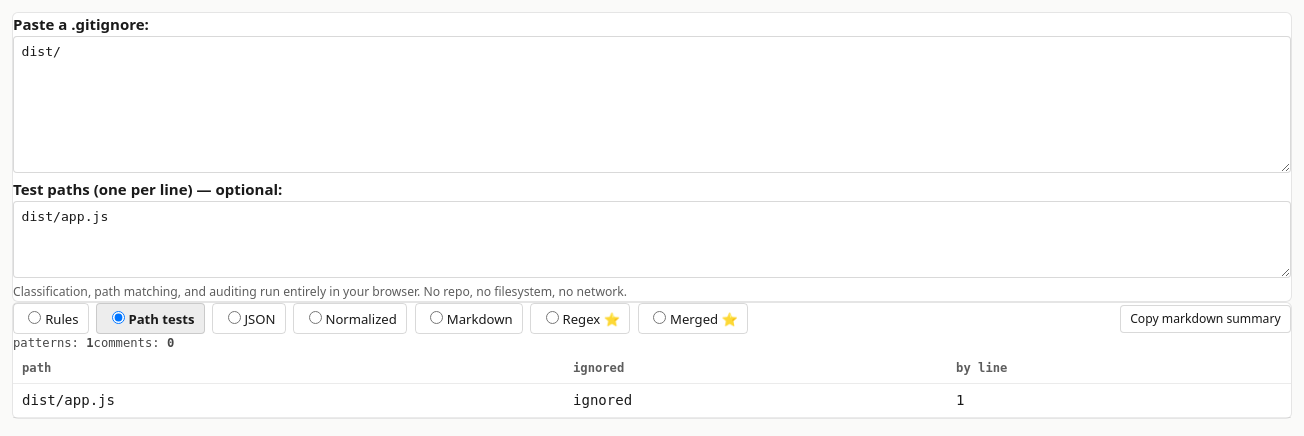
it: GitignoreApp › updates verdicts when the paths field changes
Expected: the cell with test id "gitignore-ignored-0" reads "ignored", [573, 392, 632, 408]
Replace the text in the text box with test id "gitignore-paths" with "src/app.js" at (652, 239), box [13, 200, 1291, 278]
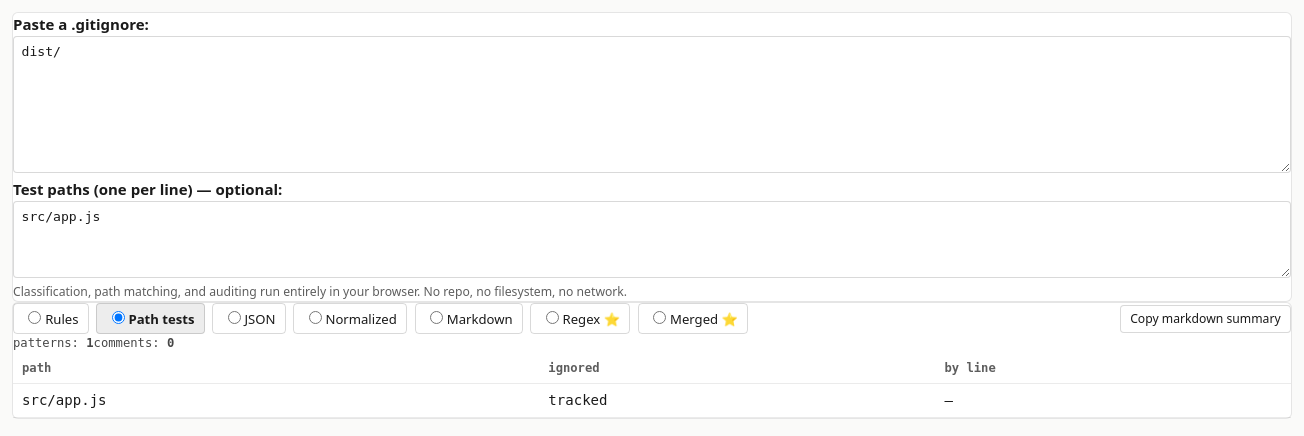
Expected: the cell with test id "gitignore-ignored-0" reads "tracked", [548, 392, 608, 408]
